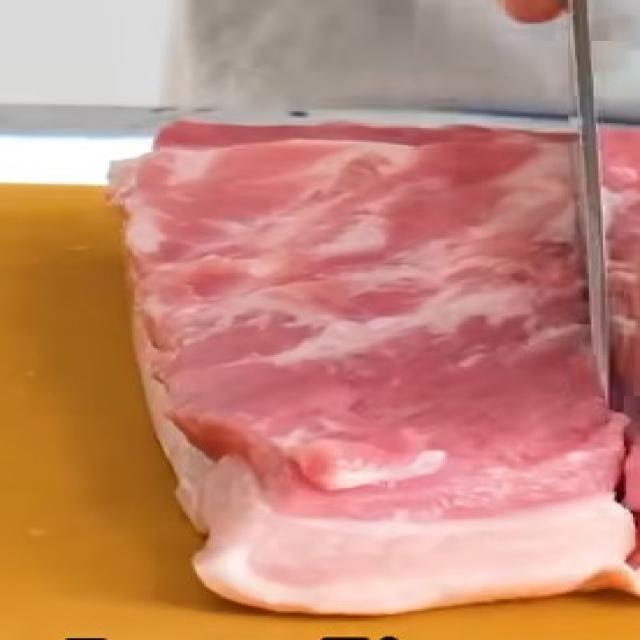pork: (106, 115, 633, 618)
